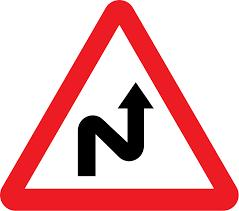Right Reverse Bend: (16, 9, 228, 208)
